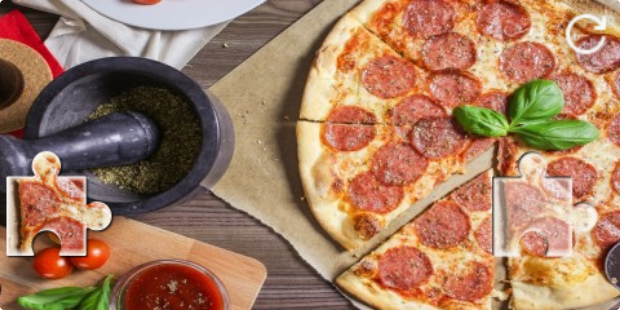target: (492, 152, 598, 256)
